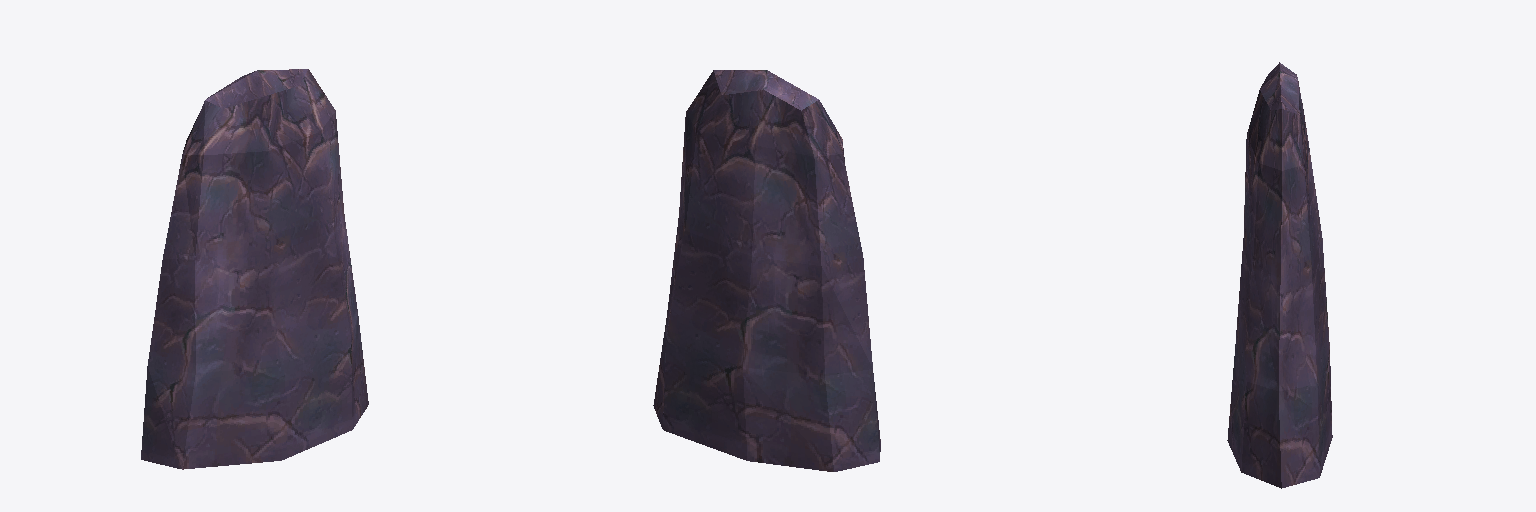
3 views of the same model, side by side, from view 1: azimuth 30°, elevation 25°; view 2: azimuth 150°, elevation 25°; view 3: azimuth 270°, elevation 25° (orthographic).
Visible parts, largest first — view 1: COT_standingstone01; view 2: COT_standingstone01; view 3: COT_standingstone01.
Part boxes in pixels (x1,y1,x2,y2): COT_standingstone01: (141, 69, 368, 469); COT_standingstone01: (653, 70, 880, 471); COT_standingstone01: (1227, 62, 1332, 488).
Bounding box in the file's own units: 24.86 × 38.71 × 9.95.
Materials: 1 (1 with a texture image).